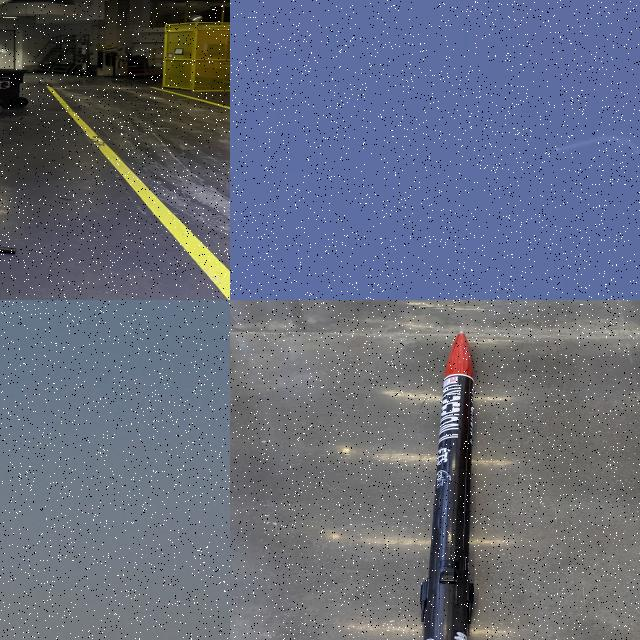Rocket: (419, 329, 475, 640), (554, 146, 558, 153)
